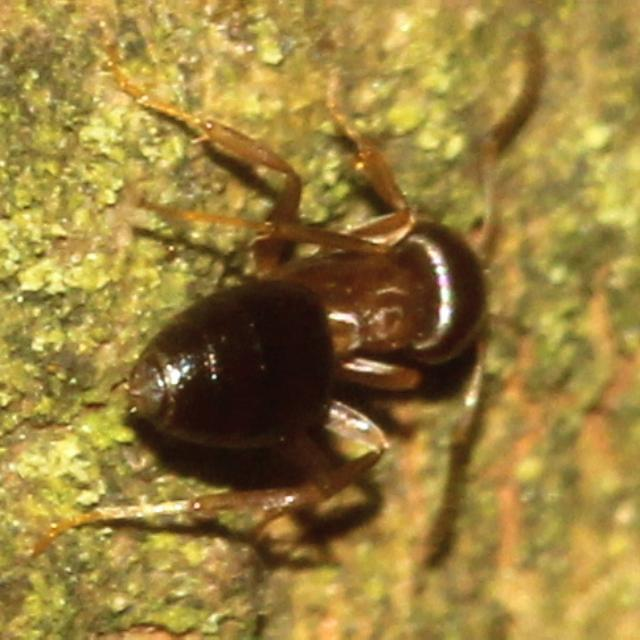Lasius: (79, 83, 543, 533)
